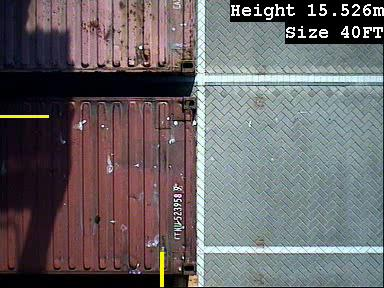groundmarker_2: (176, 139, 244, 192), (179, 215, 247, 268)
